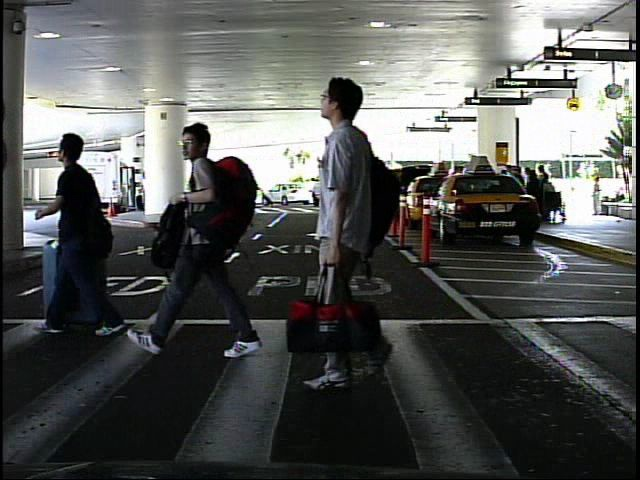person: (282, 66, 407, 396), (134, 105, 249, 366), (31, 114, 122, 354), (588, 174, 607, 219)
